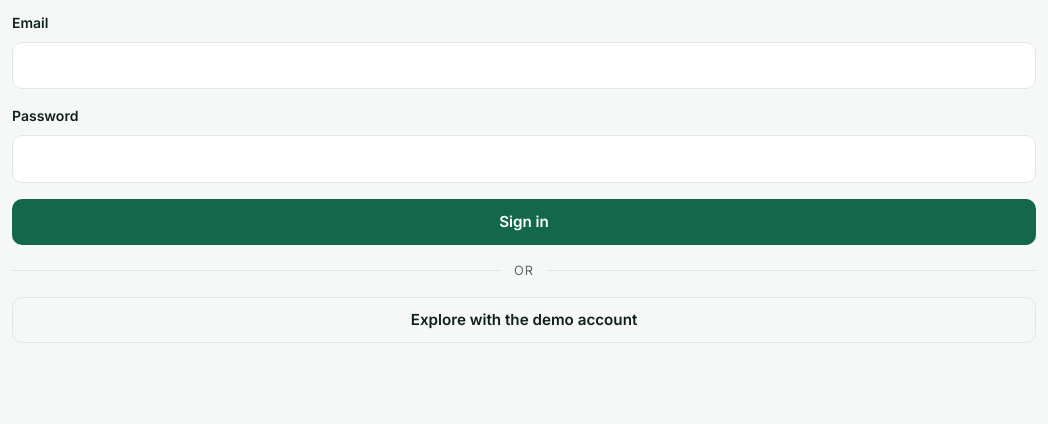
Test: LoginForm › shows the server message when the credentials are rejected
The image size is (1048, 424).
Type "admin@geo-atlas.app" into the field labelled "Email" at [524, 66], box [12,42,1036,89]
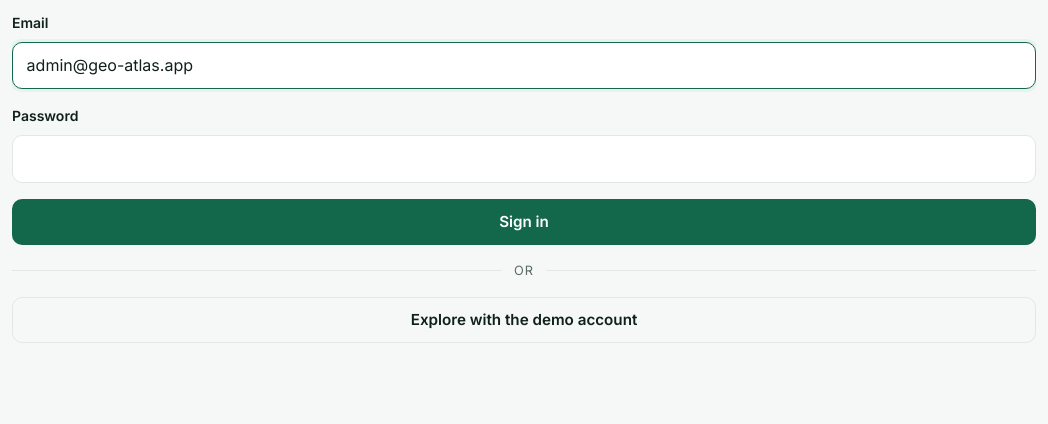
Type "WrongPassword" into the password field labelled "Password" at [524, 159], box [12,135,1036,183]
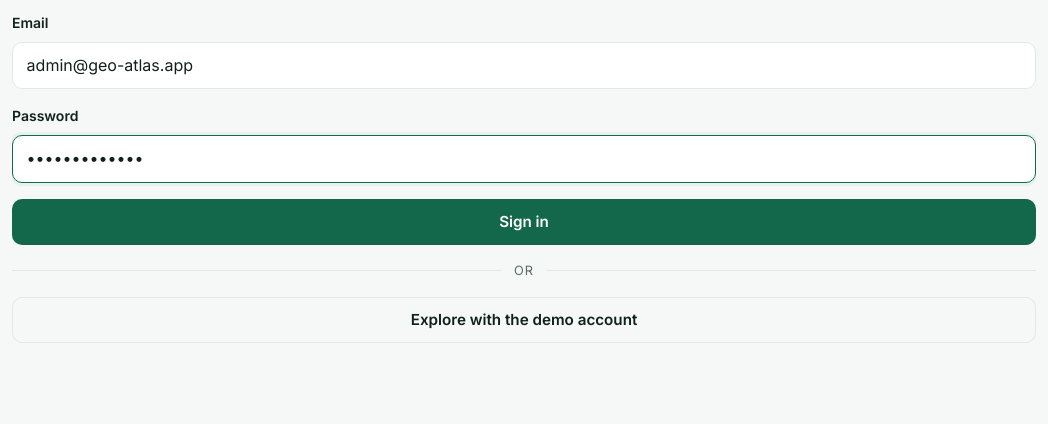
Click the button "Sign in" at [524, 222], box [12,198,1036,245]
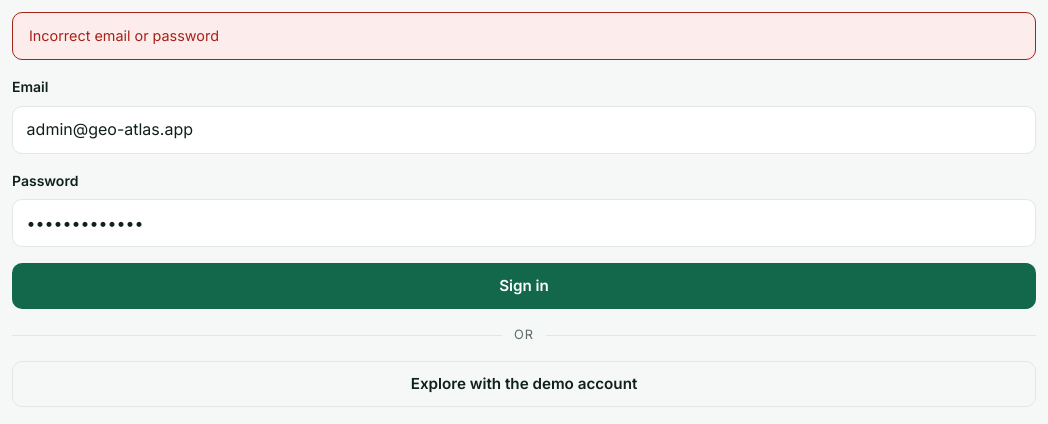
Now the message reads "Incorrect email or password", box [29,27,219,44]
